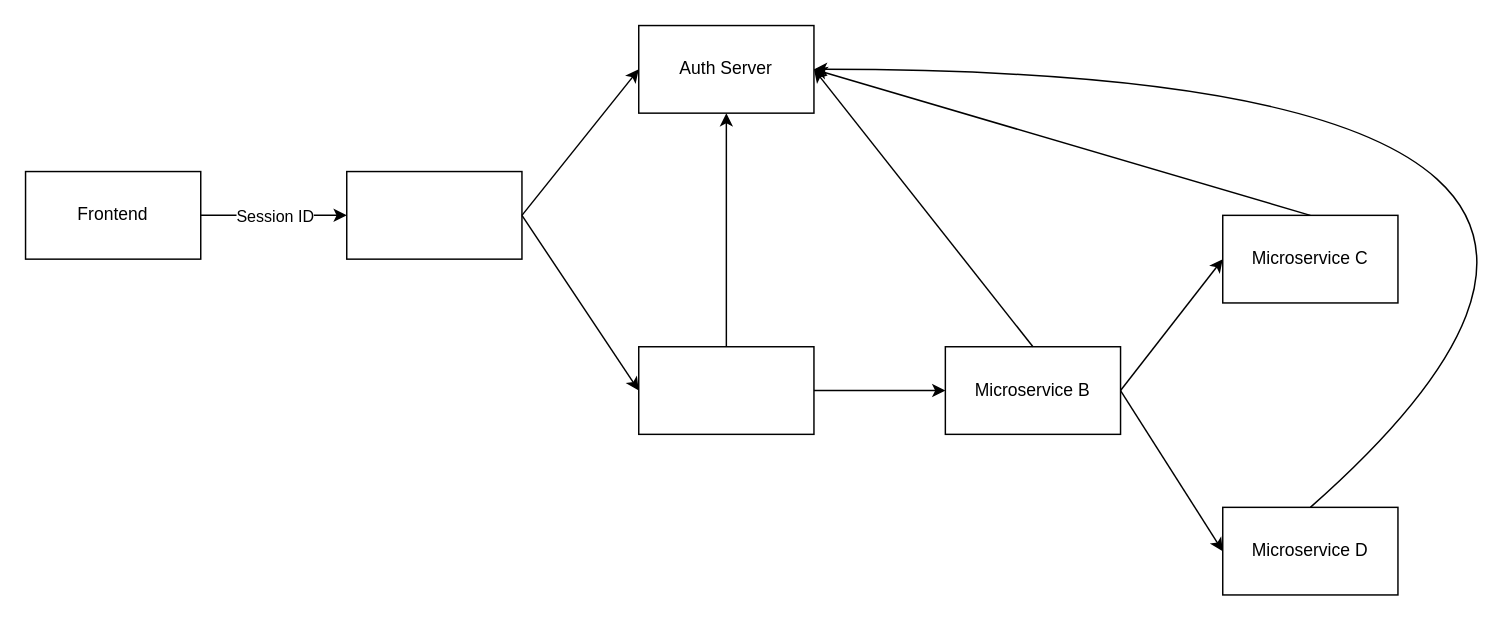
Some shapes in this 1504 by 621 pixel diagram are drawn without their labels. The shapes that lost their labels are listed below. From the top down, each one's centre as x and y in pixels, then its label:
At pixel 433 214: "API Gateway".
At pixel 725 389: "Microservice A".
